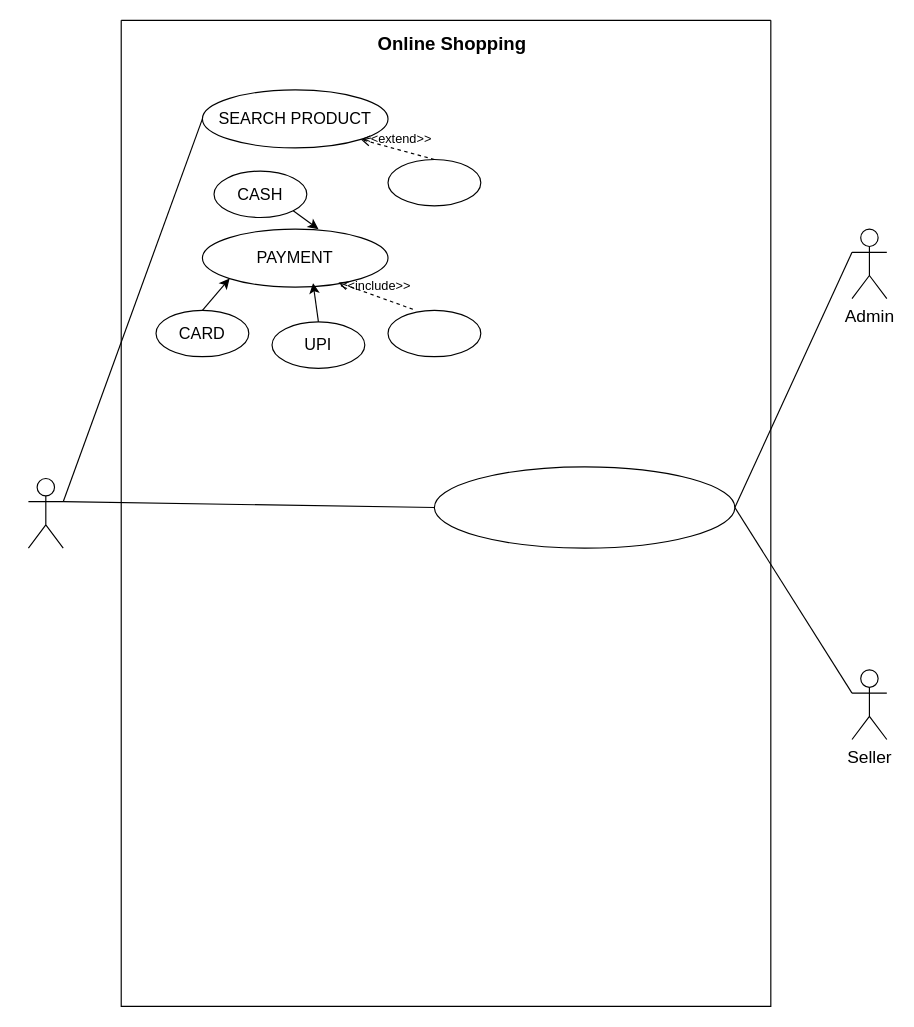
Some shapes in this 914 by 1027 pixel diagram are drawn without their labels. Each missing label, with the centre of its shape:
"Buyer" belongs at pixel 45 512.
"FILTER" belongs at pixel 434 182.
"LOGIN" belongs at pixel 584 507.
"STATUS" belongs at pixel 434 333.
